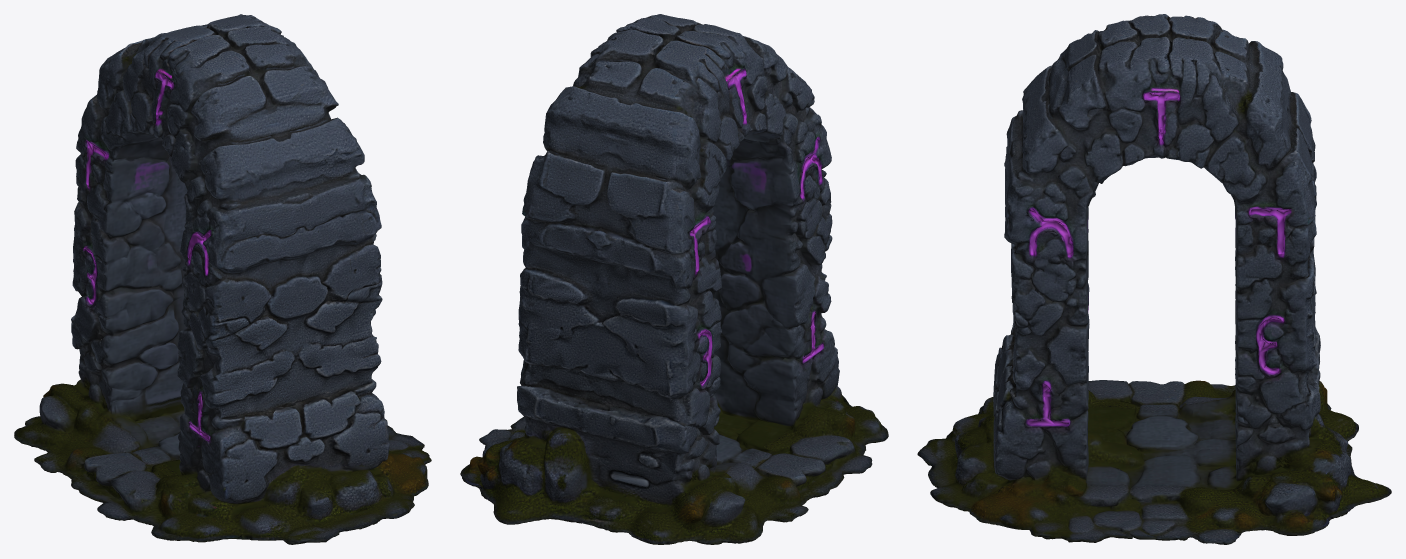
The model's file is ruin_arch.glb.
3 renders of one model, left to right at view 1: azimuth 30°, elevation 25°; view 2: azimuth 150°, elevation 25°; view 3: azimuth 270°, elevation 25°, orthographic. The views are drawn at different scales.
Visible parts, largest first — view 1: tripo_node_c551574a-eaf3-4f91-b8c9-7a2f869a9a1b; view 2: tripo_node_c551574a-eaf3-4f91-b8c9-7a2f869a9a1b; view 3: tripo_node_c551574a-eaf3-4f91-b8c9-7a2f869a9a1b.
Boxes of the visible parts, x1,y1,x2,y2 form: tripo_node_c551574a-eaf3-4f91-b8c9-7a2f869a9a1b: (14,14,431,544); tripo_node_c551574a-eaf3-4f91-b8c9-7a2f869a9a1b: (460,14,888,544); tripo_node_c551574a-eaf3-4f91-b8c9-7a2f869a9a1b: (917,14,1391,544).
Bounding box in the file's own units: 0.7825 × 0.9833 × 0.9795.
1 material, 1 textured.
